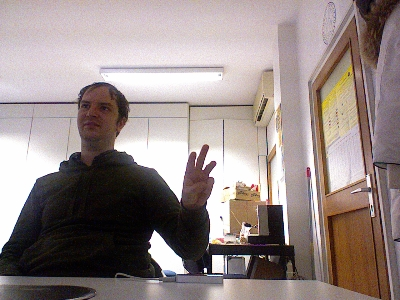三分: (180, 143, 216, 209)
